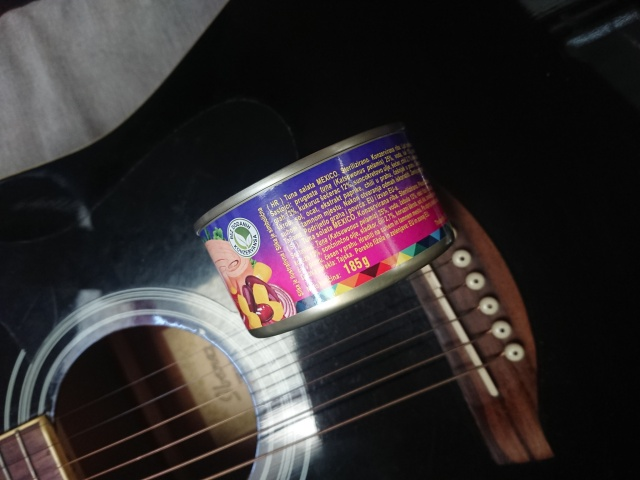Giana Tuna Salad Mexico 185g: (190, 115, 465, 340)
